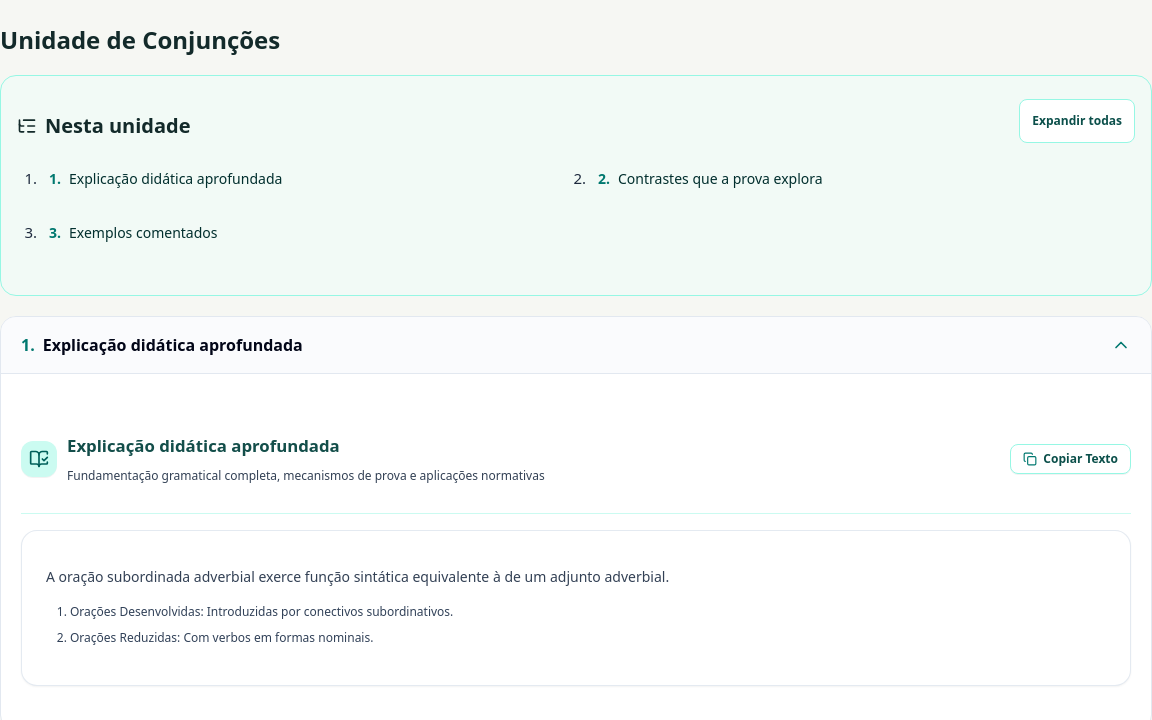
Test: MarkdownContent pedagógico › renderiza os campos aprofundados: Explicação didática, Contrastes e Exemplos Comentados
Click the button "Expandir todas": (1077, 121) left=1019, top=99, right=1135, bottom=143
(page scrolled)
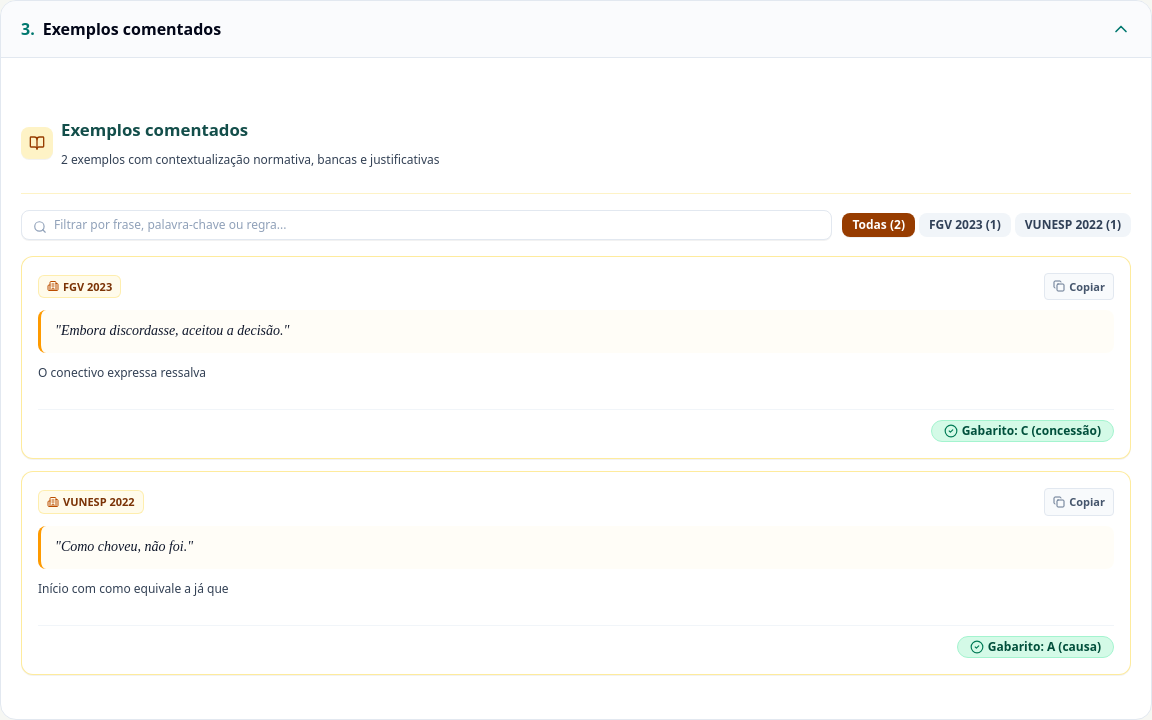
Expected: the button "FGV 2023 (1)" is shown, left=919, top=213, right=1011, bottom=237
Expected: the button "VUNESP 2022 (1)" is shown, left=1015, top=213, right=1131, bottom=237
Expected: the text "Gabarito: C (concessão)" is shown, left=962, top=423, right=1101, bottom=439
